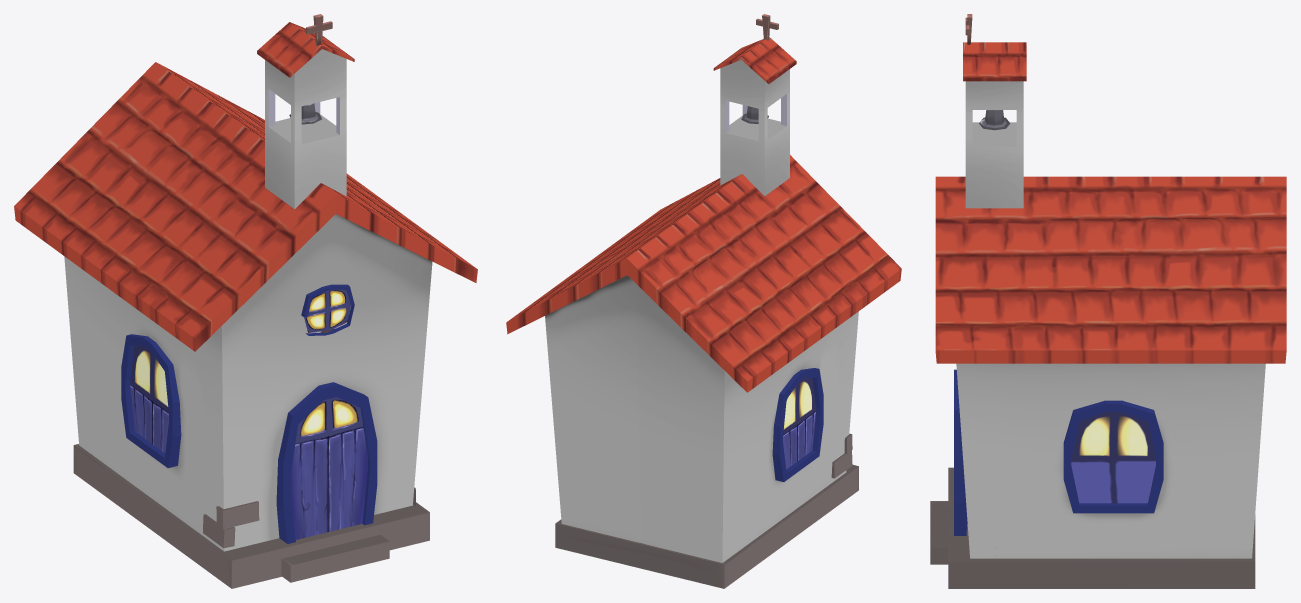
Rendered from chapel.gltf.
The picture shows the model from 3 angles, left to right: view 1: azimuth 30°, elevation 25°; view 2: azimuth 150°, elevation 25°; view 3: azimuth 270°, elevation 25°; orthographic projection. The views are drawn at different scales.
Parts seen in each view (by area): view 1: ChapelMesh; view 2: ChapelMesh; view 3: ChapelMesh.
Boxes of the visible parts, <box> form: ChapelMesh: <box>14,14,477,588</box>; ChapelMesh: <box>506,14,901,588</box>; ChapelMesh: <box>930,14,1286,588</box>.
Size of what is drawn, in the model's own units: 3.77 by 6.89 by 4.23.
1 material, 1 textured.
